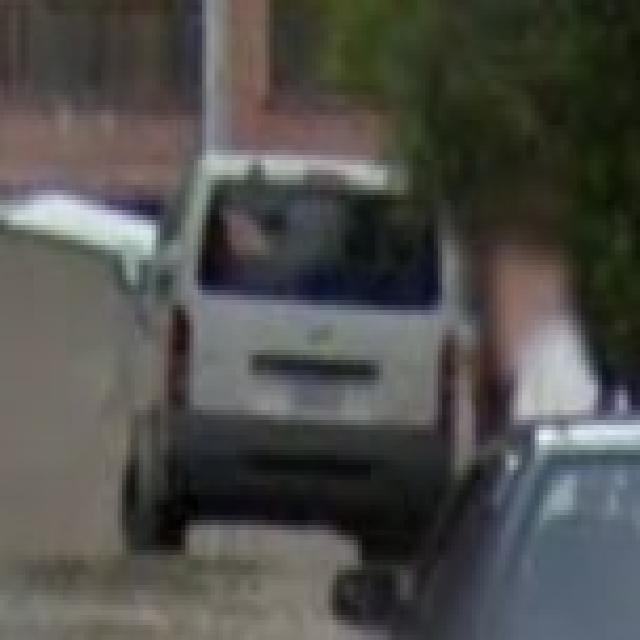cars: (131, 140, 462, 575)
